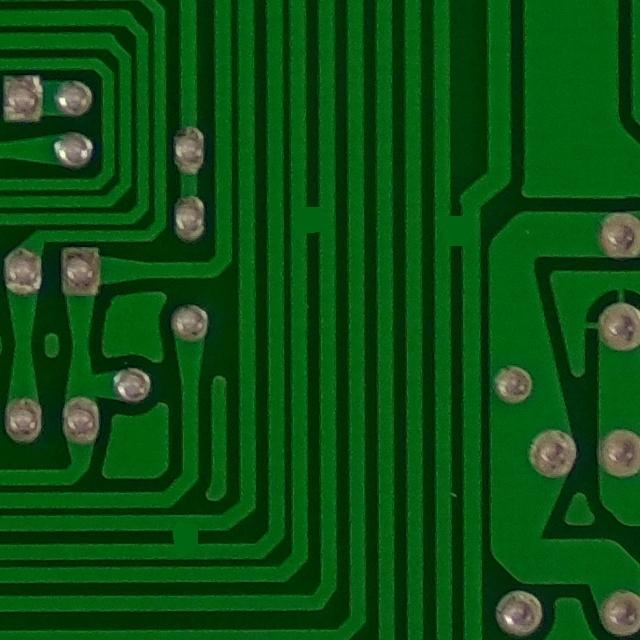short: (147, 508, 225, 569), (281, 188, 342, 249), (427, 205, 495, 259)
